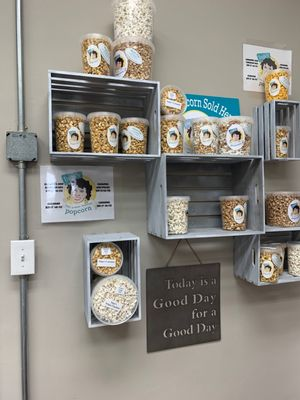pizza: (219, 196, 249, 231)
